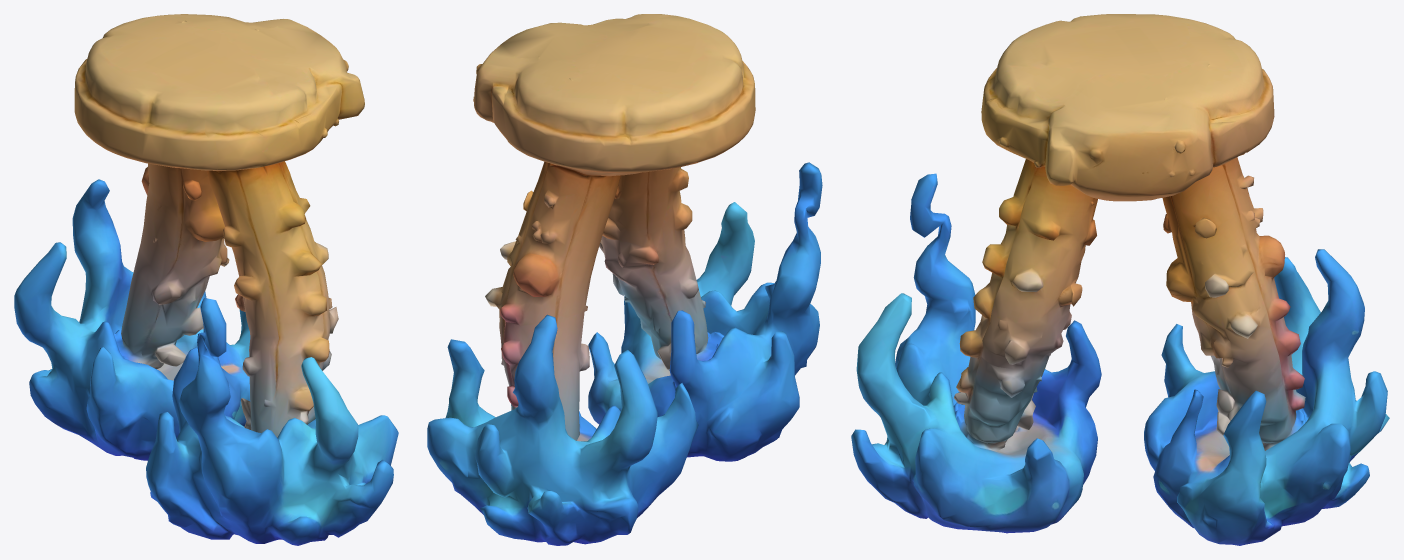
The model's file is legs.glb.
3 renders of one model, left to right at view 1: azimuth 30°, elevation 25°; view 2: azimuth 150°, elevation 25°; view 3: azimuth 270°, elevation 25°, orthographic. The views are drawn at different scales.
Visible parts, largest first — view 1: tripo_node_762d8838-597e-4b51-8457-7f399384656b; view 2: tripo_node_762d8838-597e-4b51-8457-7f399384656b; view 3: tripo_node_762d8838-597e-4b51-8457-7f399384656b.
Boxes of the visible parts, <box> form: tripo_node_762d8838-597e-4b51-8457-7f399384656b: <box>14,14,398,545</box>; tripo_node_762d8838-597e-4b51-8457-7f399384656b: <box>427,14,822,545</box>; tripo_node_762d8838-597e-4b51-8457-7f399384656b: <box>851,14,1389,545</box>.
Bounding box in the file's own units: 0.543 × 0.931 × 1.
1 material, 1 textured.
